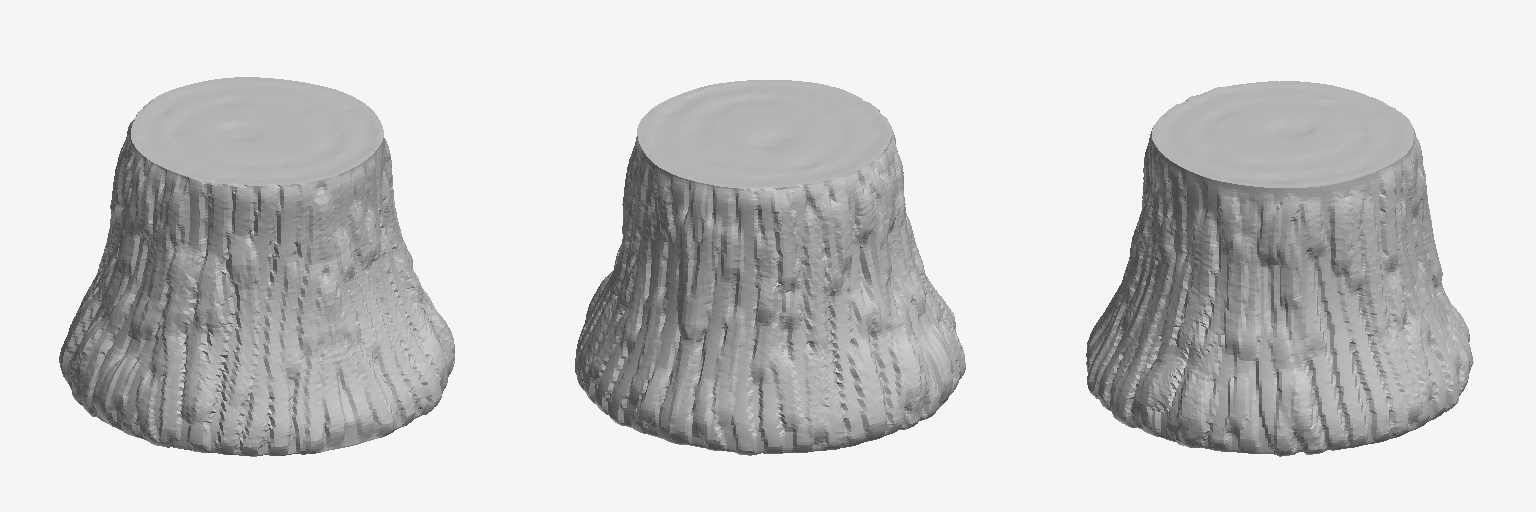
File: tree_trunk.obj
The picture shows the model from 3 angles: view 1: azimuth 30°, elevation 25°; view 2: azimuth 150°, elevation 25°; view 3: azimuth 270°, elevation 25°; orthographic projection.
Parts seen in each view (by area): view 1: Group31676, Group9363; view 2: Group31676, Group9363; view 3: Group31676, Group9363.
Part boxes in pixels (x1,y1,x2,y2): Group31676: (59,102,454,456); Group9363: (131,77,383,185); Group31676: (575,110,965,455); Group9363: (637,80,892,188); Group31676: (1086,100,1473,456); Group9363: (1152,81,1413,187).
Bounding box in the file's own units: 2.07 × 1.43 × 2.04.